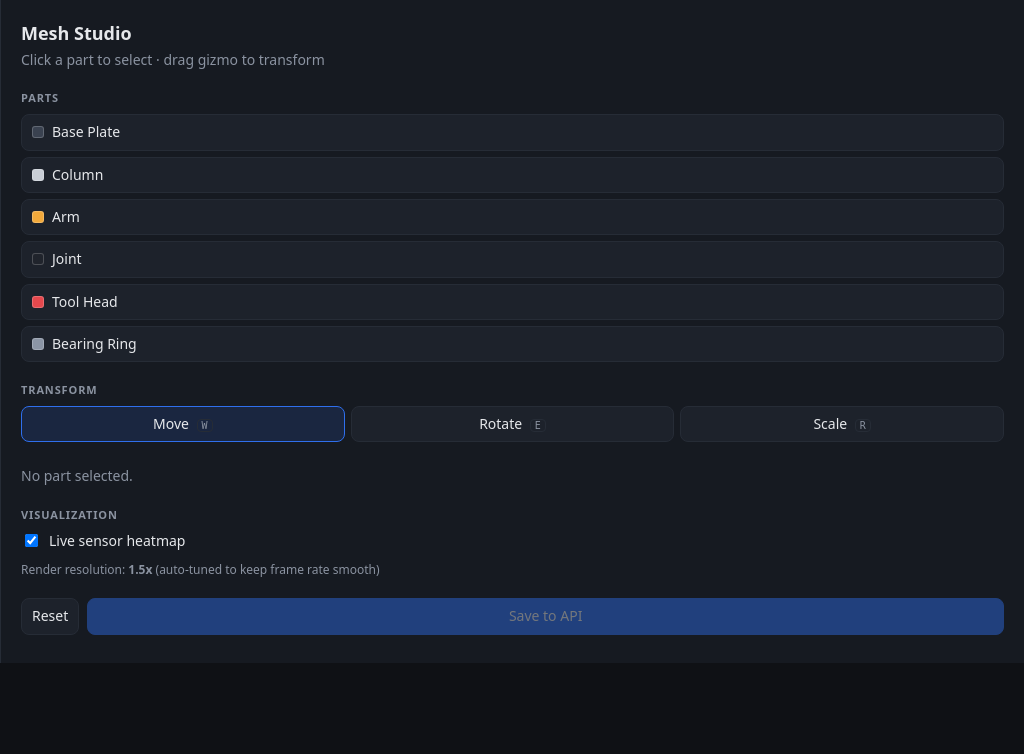
Scenario: <ControlPanel> › W / E / R switch transform mode and Escape deselects
Click the button "Tool Head".
click(85, 301)  # box [21, 284, 1004, 320]
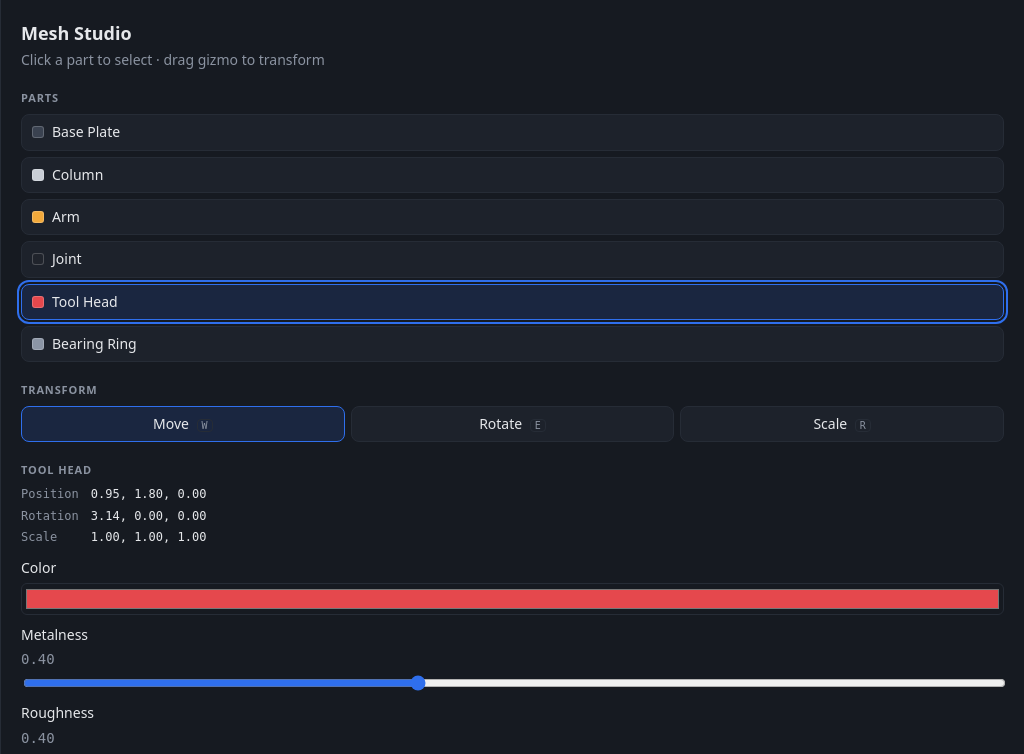
Type keys "e"
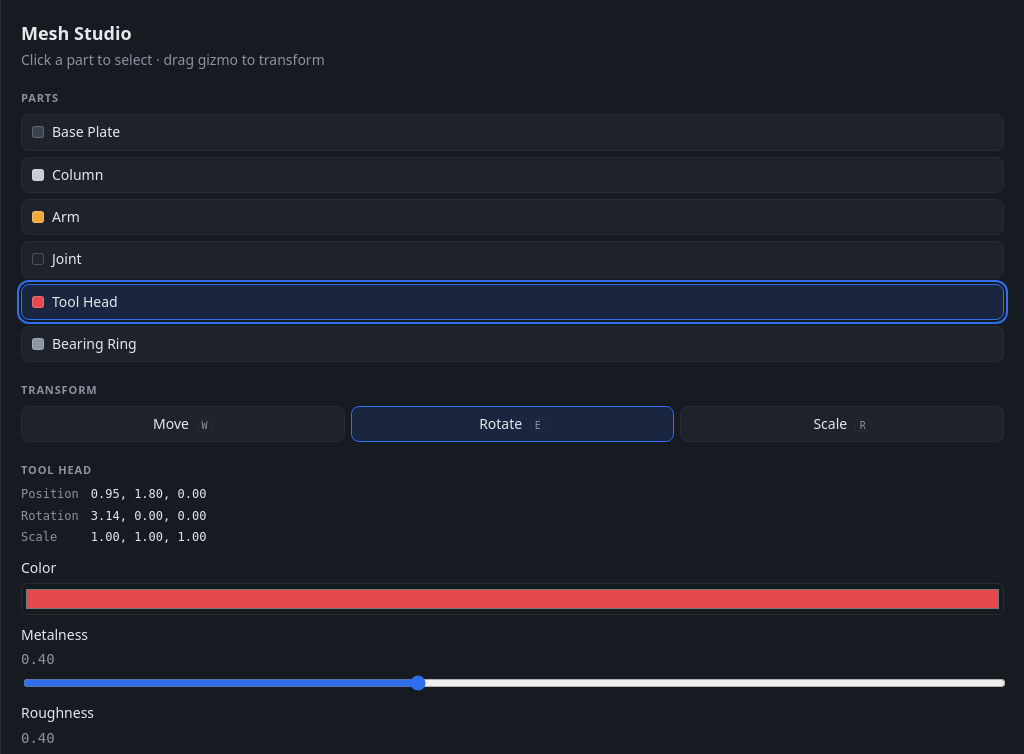
Type keys "r"
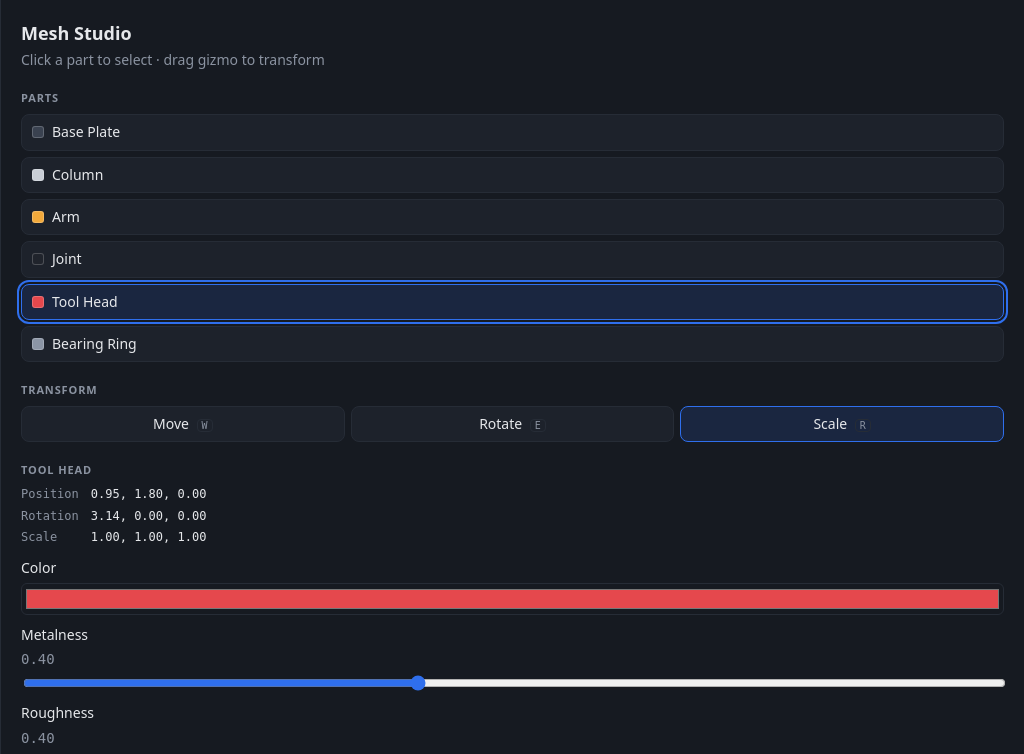
Type keys "w"
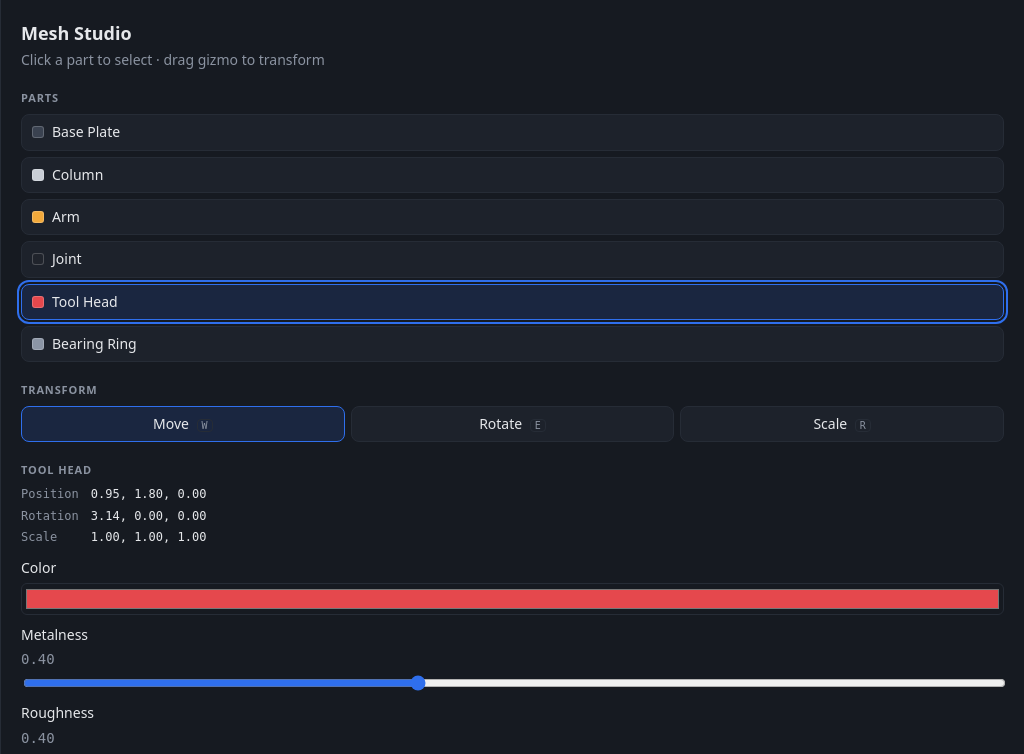
Press Escape
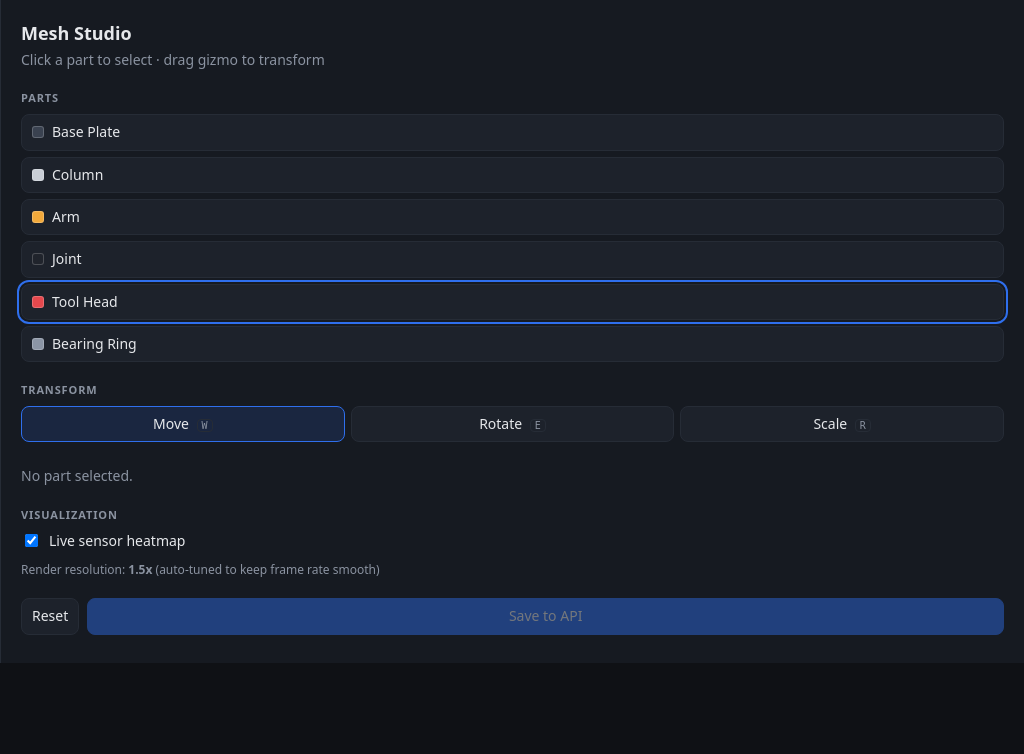
Expected: the text "No part selected." is shown, [21, 466, 133, 485]
